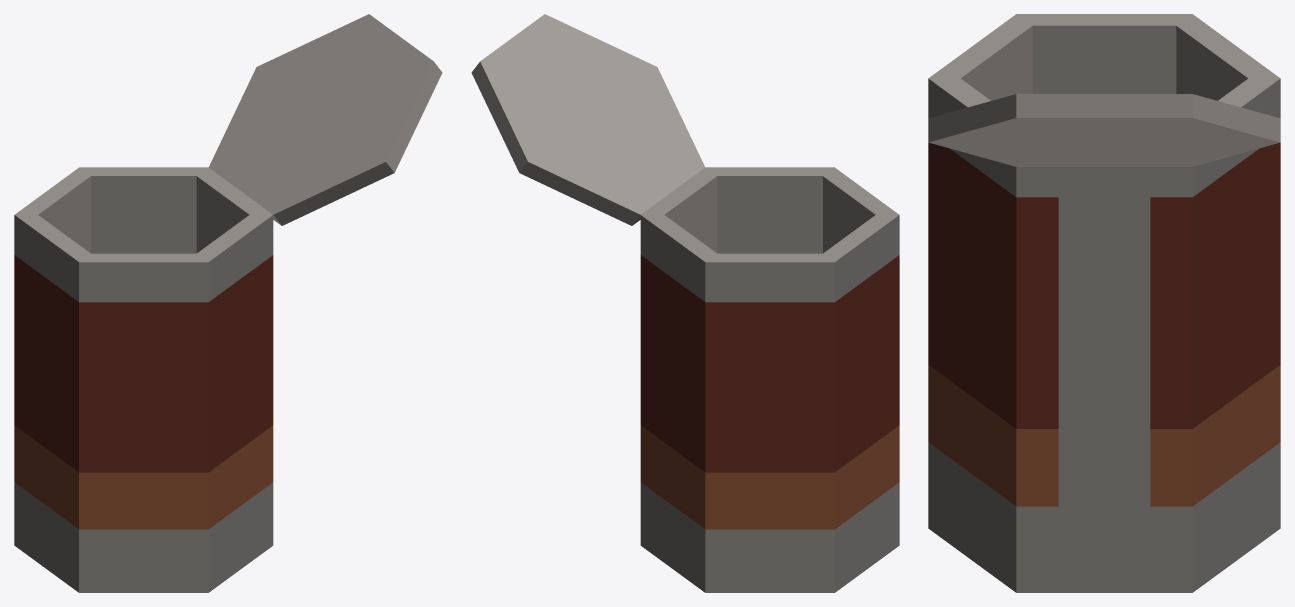
The model's file is AI_Item_Open_Can_01.fbx.
3 renders of one model, left to right at view 1: azimuth 30°, elevation 25°; view 2: azimuth 150°, elevation 25°; view 3: azimuth 270°, elevation 25°, orthographic. The views are drawn at different scales.
Visible parts, largest first — view 1: AI_Item_Open_Can_01; view 2: AI_Item_Open_Can_01; view 3: AI_Item_Open_Can_01.
Part boxes in pixels (x1,y1,x2,y2): AI_Item_Open_Can_01: (14,14,442,592); AI_Item_Open_Can_01: (471,14,899,592); AI_Item_Open_Can_01: (928,14,1280,592).
Bounding box in the file's own units: 0.5187 × 0.607 × 0.32.
